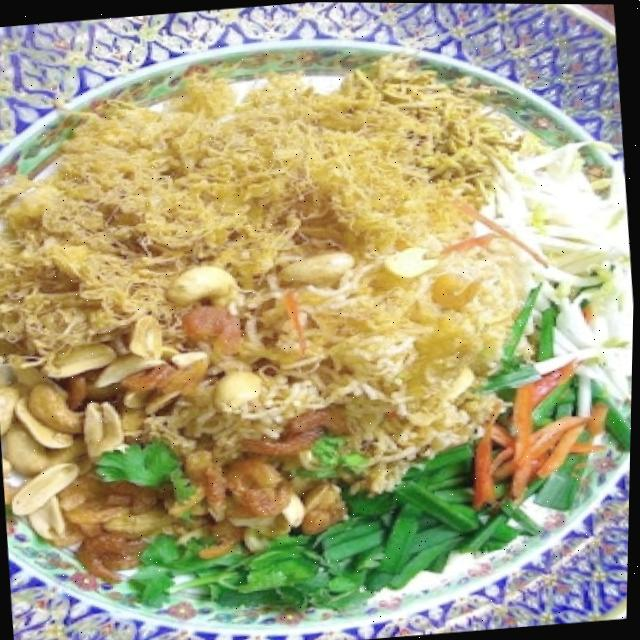面条主食: (0, 12, 640, 640)
